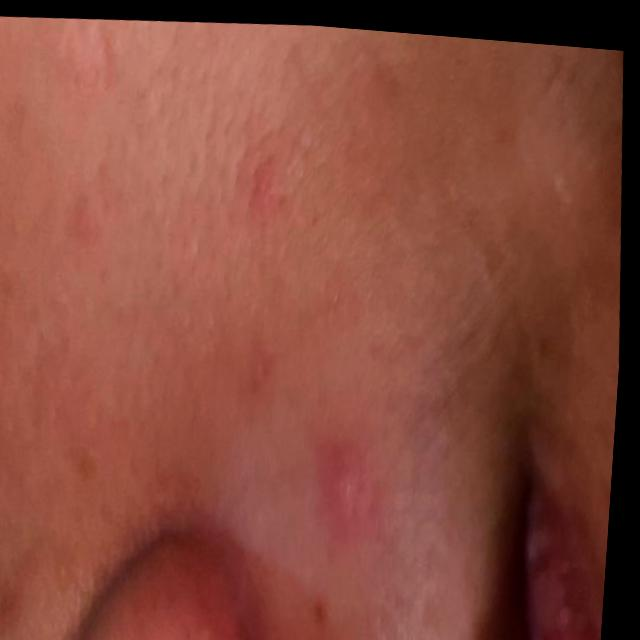papule: (301, 396, 406, 550)
